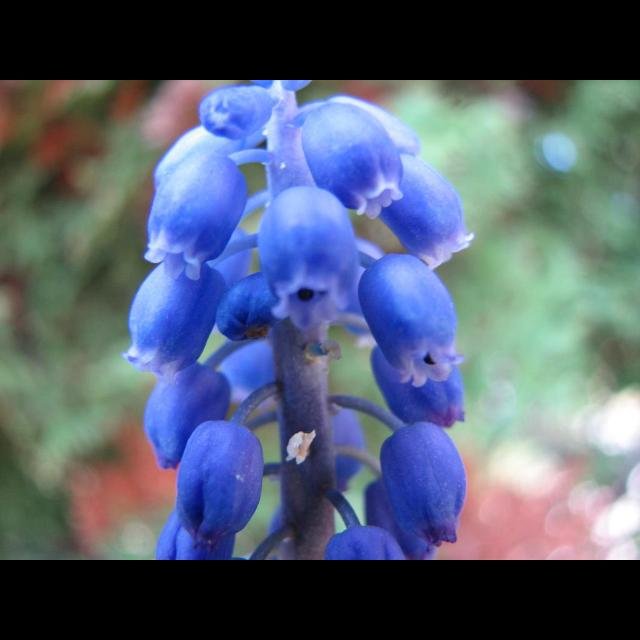Flower: (74, 80, 502, 560)
